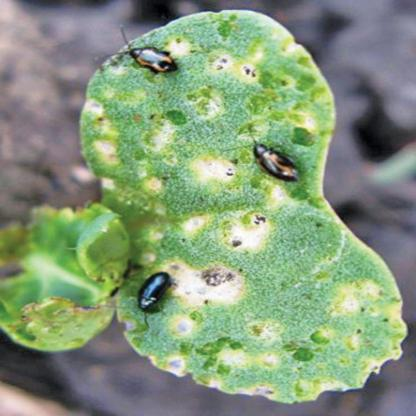beetle: (248, 135, 308, 189), (111, 32, 180, 77), (133, 266, 175, 319)
